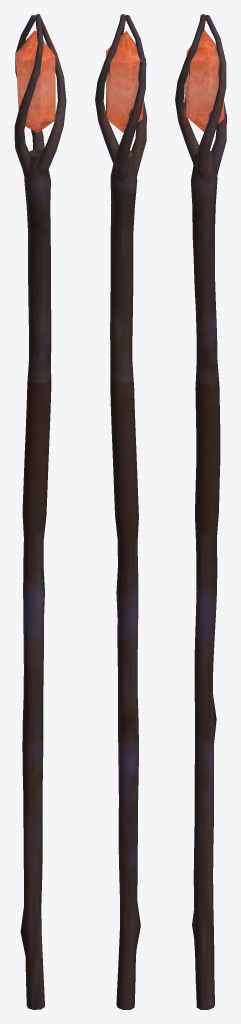
3 renders of one model, left to right at view 1: azimuth 30°, elevation 25°; view 2: azimuth 210°, elevation 25°; view 3: azimuth 330°, elevation 25°, orthographic.
Visible parts, largest first — view 1: variant_0; view 2: variant_0; view 3: variant_0.
Part boxes in pixels (x1,y1,x2,y2): variant_0: [14, 14, 66, 1009]; variant_0: [95, 14, 146, 1009]; variant_0: [175, 14, 226, 1009].
Size of the model in its own units: 0.0874 by 1.71 by 0.081.
Materials: 2 (2 with a texture image).
